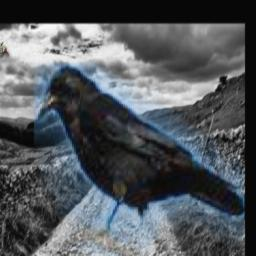Crow: (34, 64, 244, 256)
Woodpecker: (0, 41, 9, 59)
